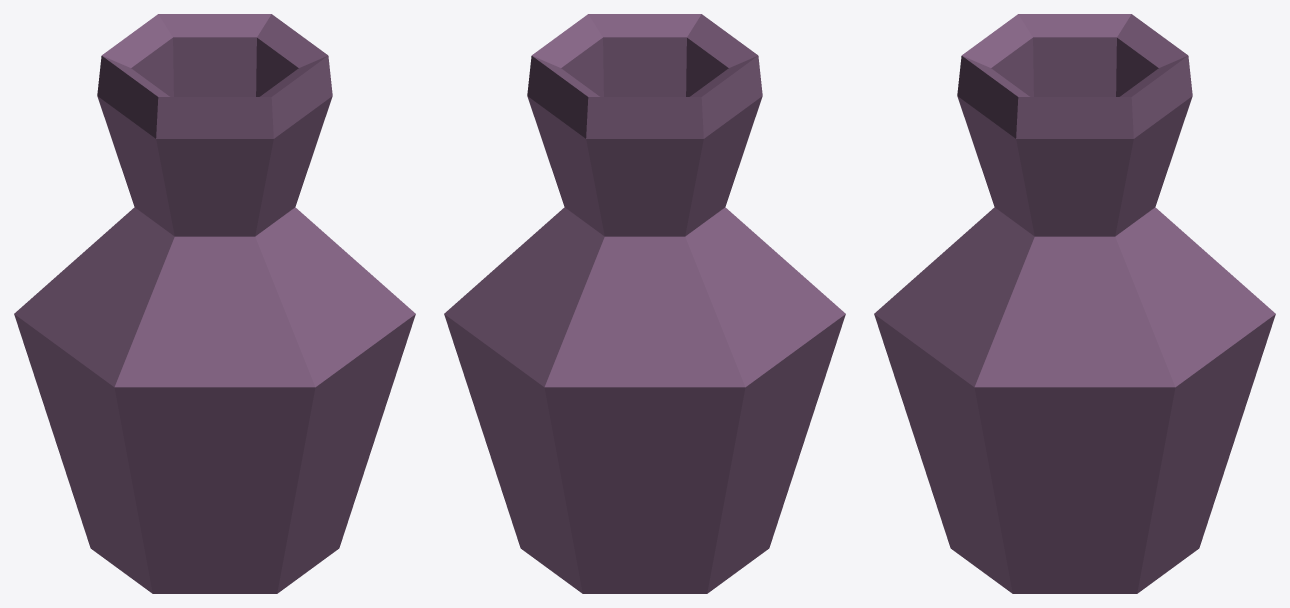
Rendered from Vase_02.fbx.
3 views of the same model, side by side, from view 1: azimuth 30°, elevation 25°; view 2: azimuth 150°, elevation 25°; view 3: azimuth 270°, elevation 25° (orthographic).
Visible parts, largest first — view 1: Vase_02; view 2: Vase_02; view 3: Vase_02.
Part boxes in pixels (bbox=[...]): Vase_02: bbox=[14, 14, 415, 593]; Vase_02: bbox=[444, 14, 845, 593]; Vase_02: bbox=[874, 14, 1275, 593].
Bounding box in the file's own units: 128 × 200 × 148.
